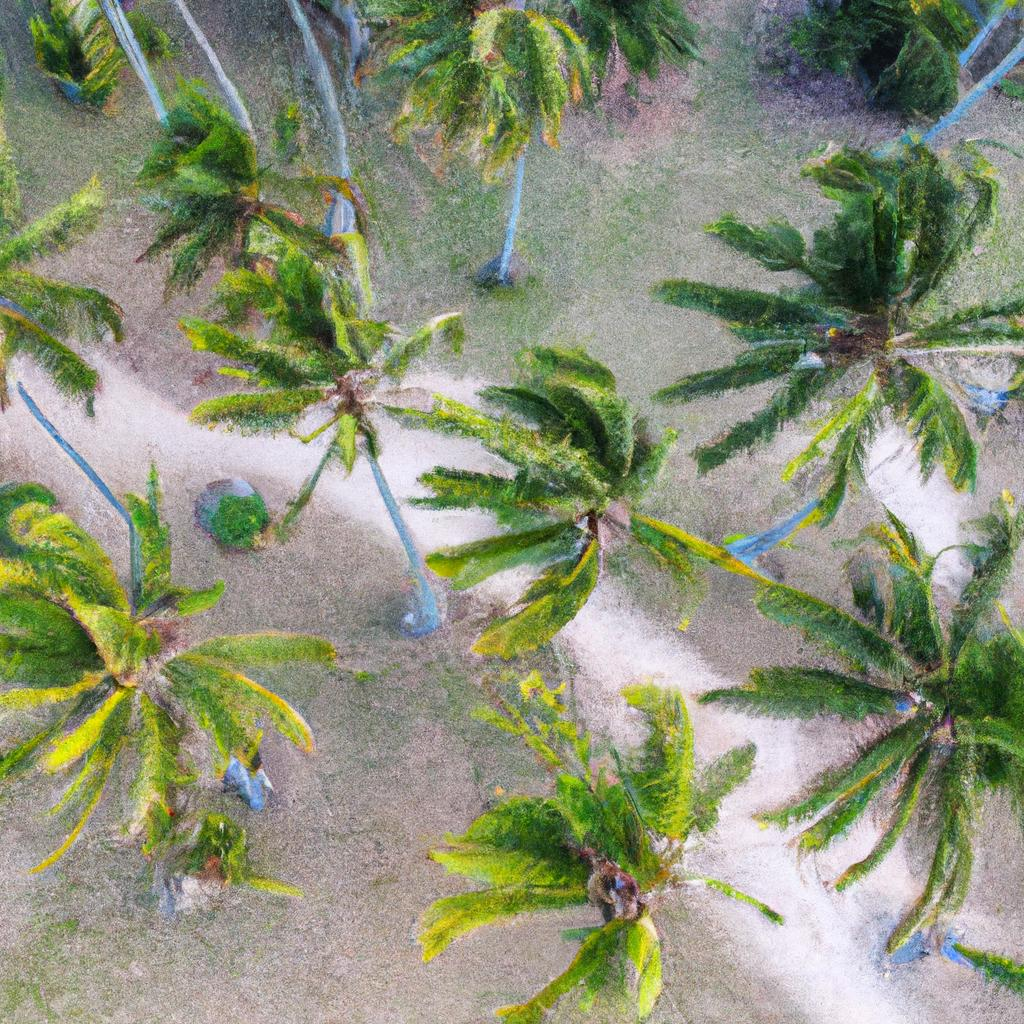coconut_tree: (0, 429, 347, 899), (633, 151, 1023, 554), (728, 550, 1023, 964), (428, 675, 773, 1023), (379, 313, 692, 677), (163, 247, 501, 497)
